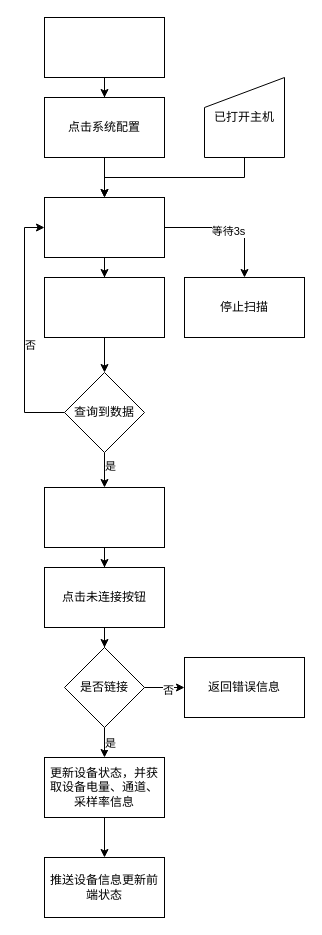
Image size: 322x935. Some labels were removed from this diagram. The shapes that lost their labels are listed below. From the top down, each one's centre as x and y in pixels, then its label:
the point at 104,47: 已登录并选择患者
the point at 104,227: 点击扫描
the point at 104,307: 调用蓝牙扫描
the point at 104,517: 推送设备信息前端显示
